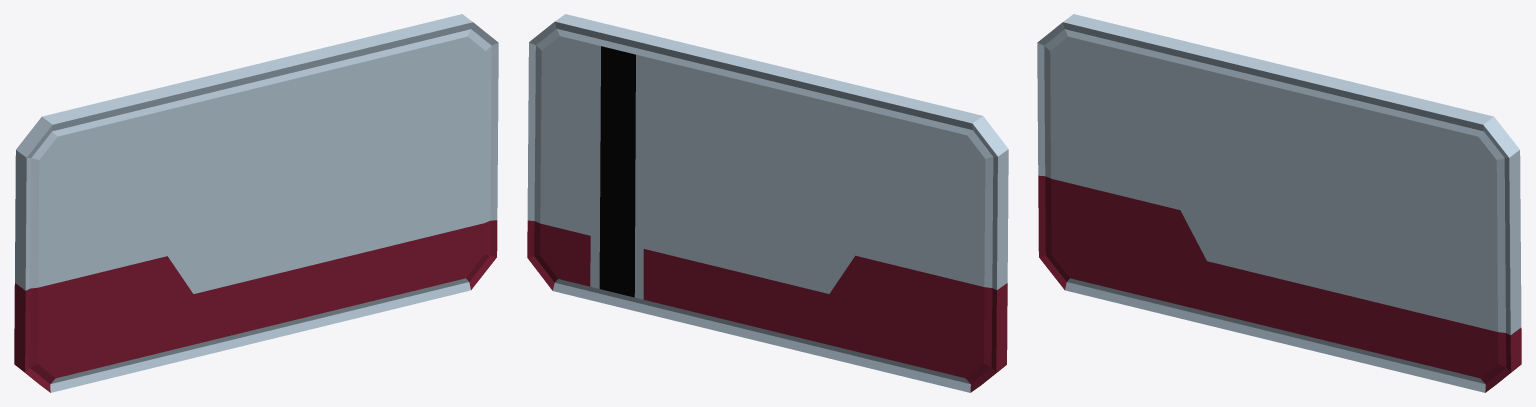
File: Keycard.fbx
3 views of the same model, side by side, from view 1: azimuth 30°, elevation 25°; view 2: azimuth 150°, elevation 25°; view 3: azimuth 330°, elevation 25° (orthographic).
Visible parts, largest first — view 1: Keycard; view 2: Keycard; view 3: Keycard.
Part boxes in pixels (x1,y1,x2,y2): Keycard: (14,14,498,392); Keycard: (527,14,1008,392); Keycard: (1037,14,1521,392).
Size of the model in its own units: 25.93 by 14.17 by 1.22.
